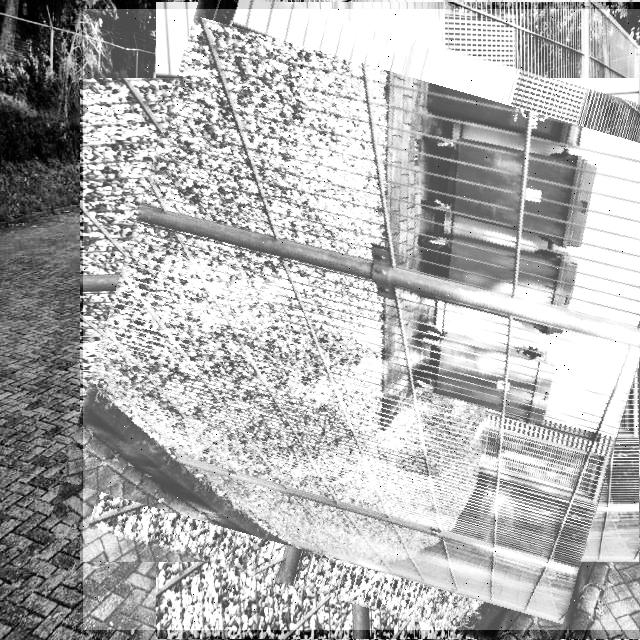fences: (83, 9, 640, 630)
